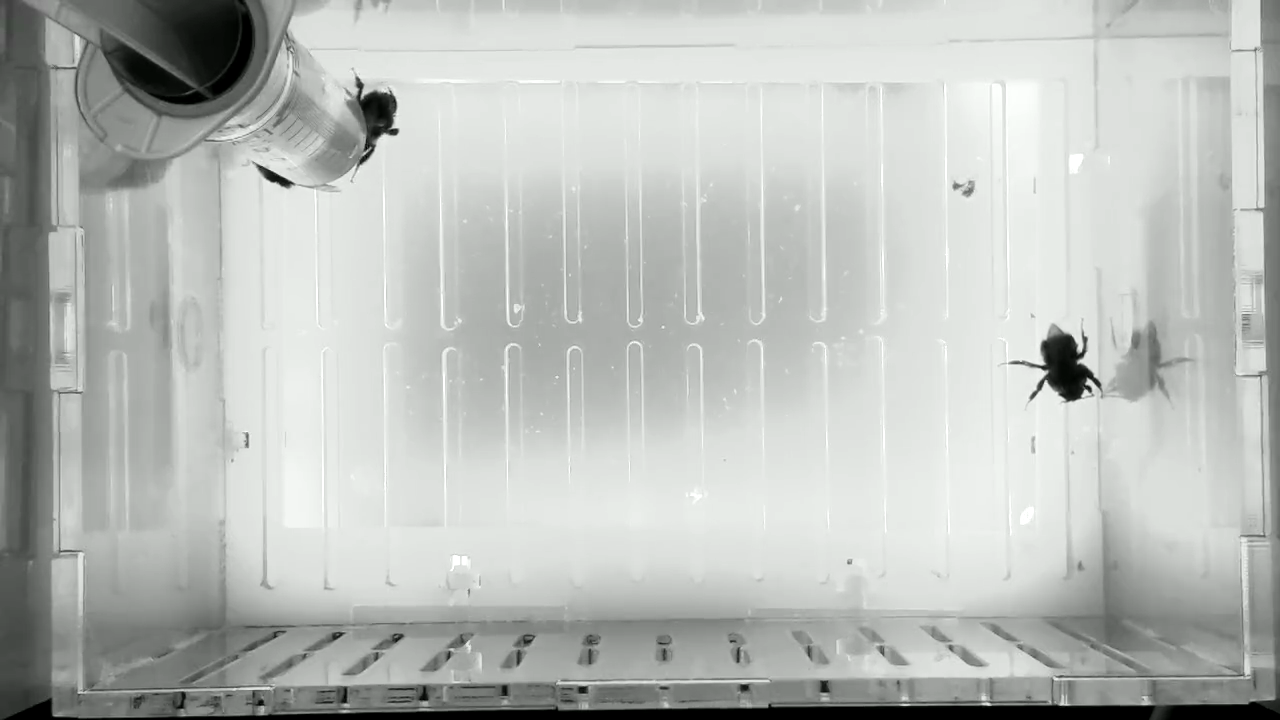bee: (1000, 317, 1108, 411), (334, 64, 403, 189), (242, 153, 346, 200)
feeder: (218, 35, 364, 183)
